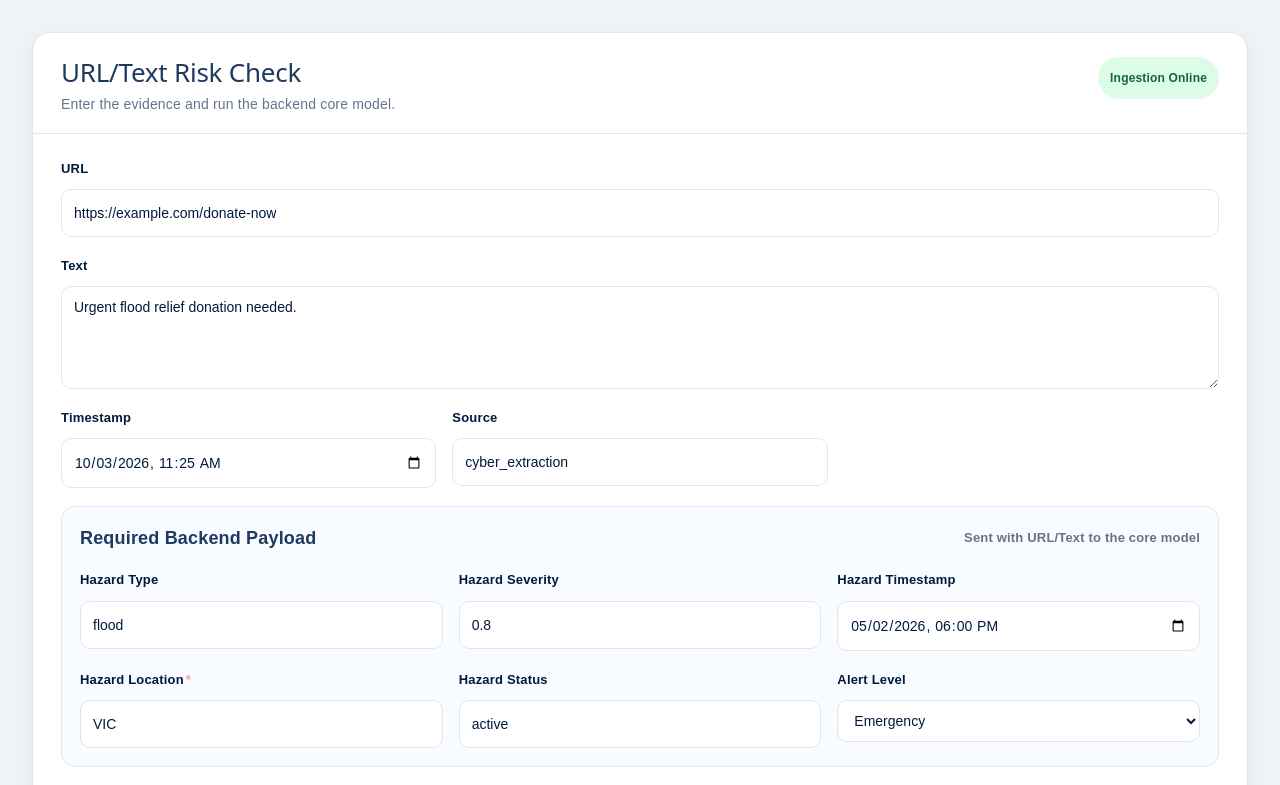
Test case: Reports page: running the model › keeps the criteria when the request fails, and Retry reuses them
Replace the text in the field labelled "Hazard Location" with "NSW" at (261, 724), box [80, 700, 443, 748]
(page scrolled)
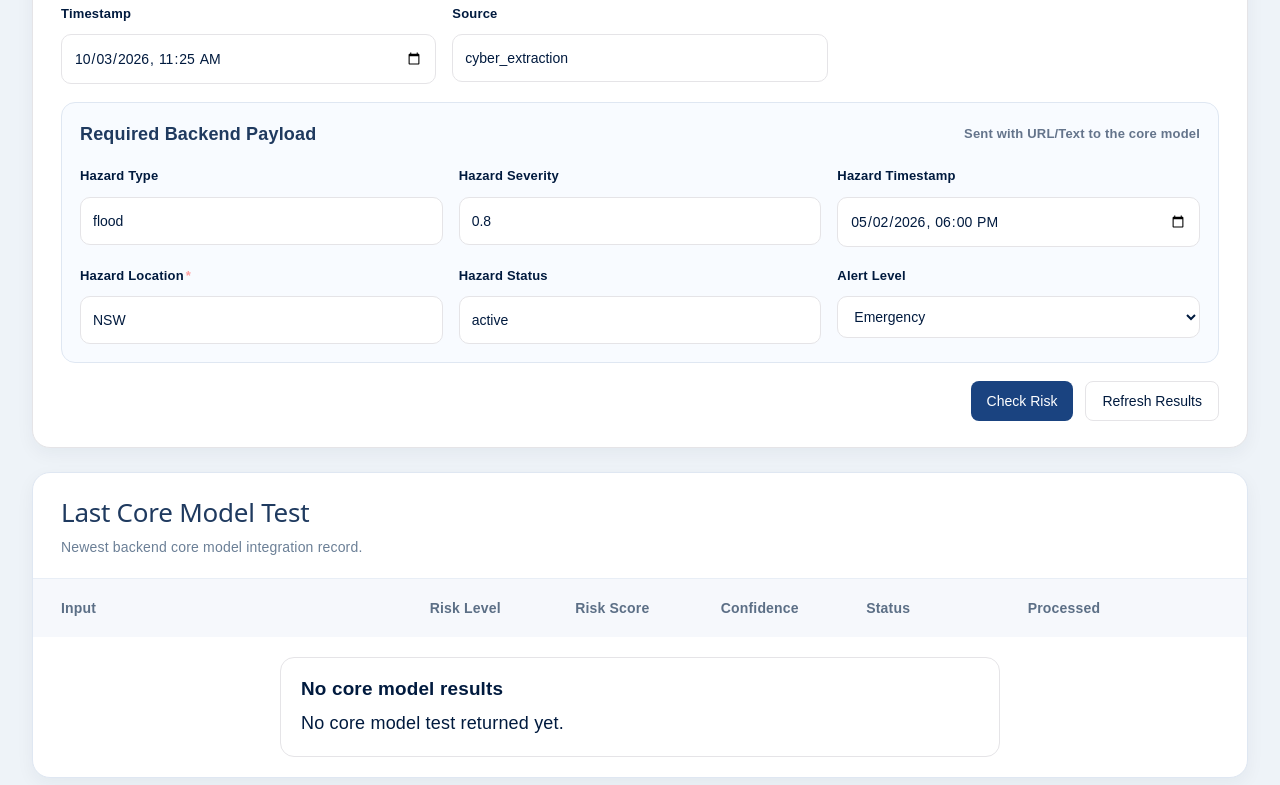
Click the button "Check Risk" at (1022, 401), box [971, 381, 1073, 421]
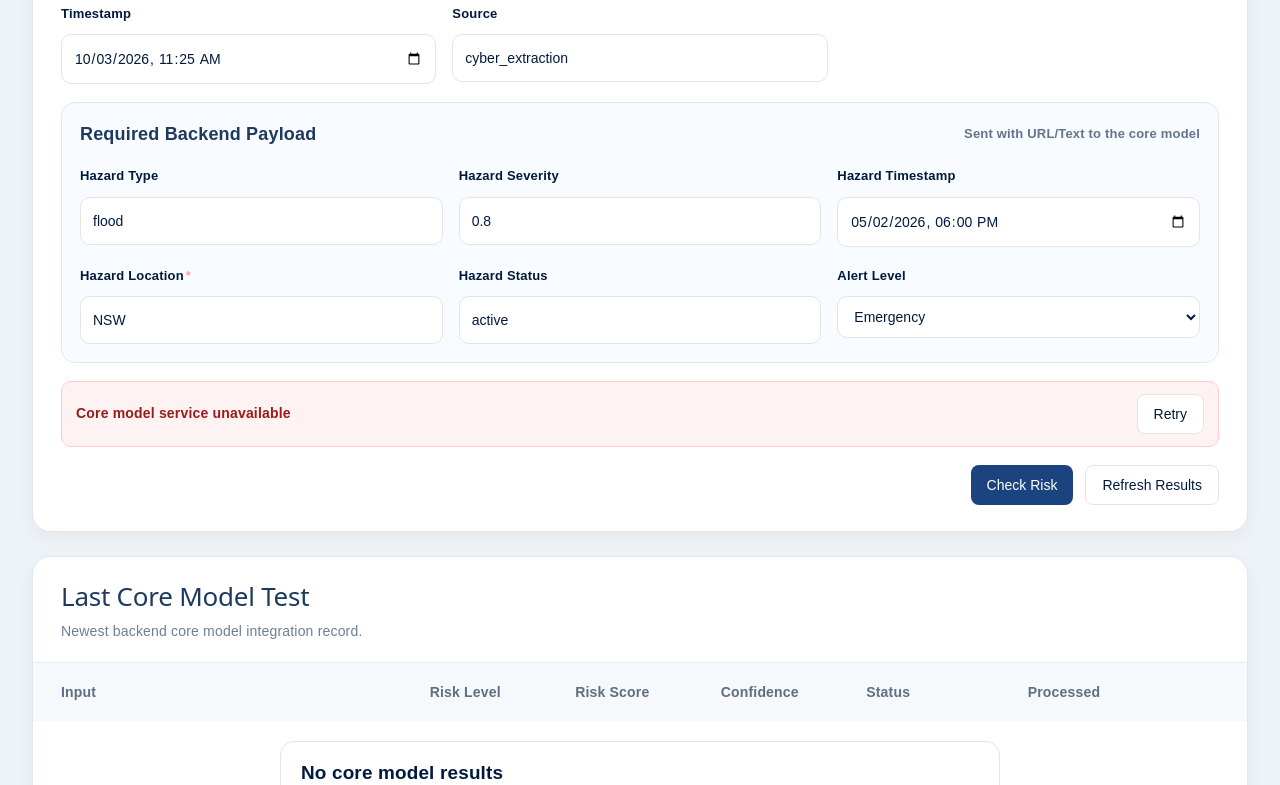
Expected: the text "Core model service unavailable" is shown, [76, 403, 291, 424]
Click the button "Retry" at (1170, 414), box [1136, 394, 1204, 434]
Wait 1000 ms
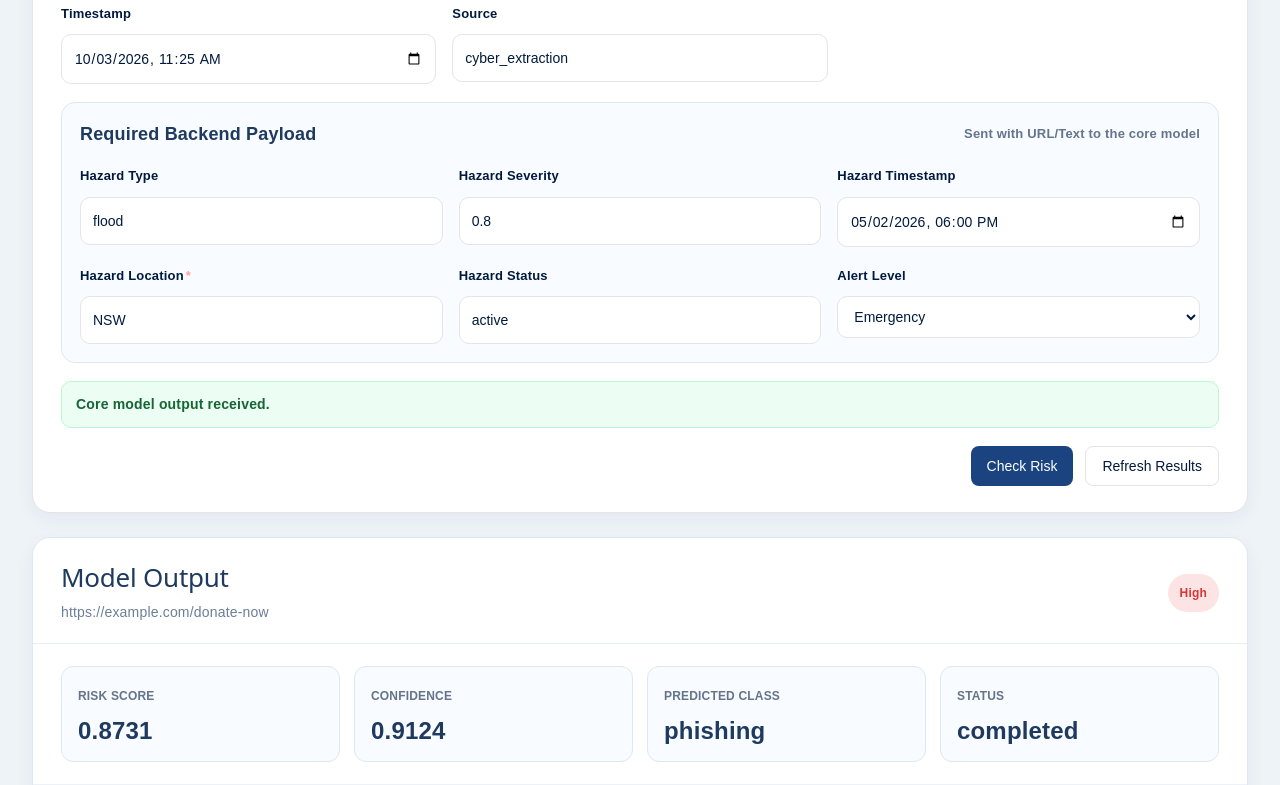
Expected: the text "Core model output received." is shown, [61, 381, 1219, 428]
Expected: the button "Retry" is gone
